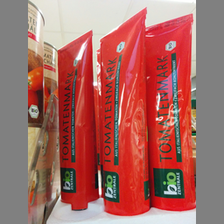tomato_sauce: (98, 7, 150, 223), (144, 13, 196, 223), (56, 29, 101, 223)
